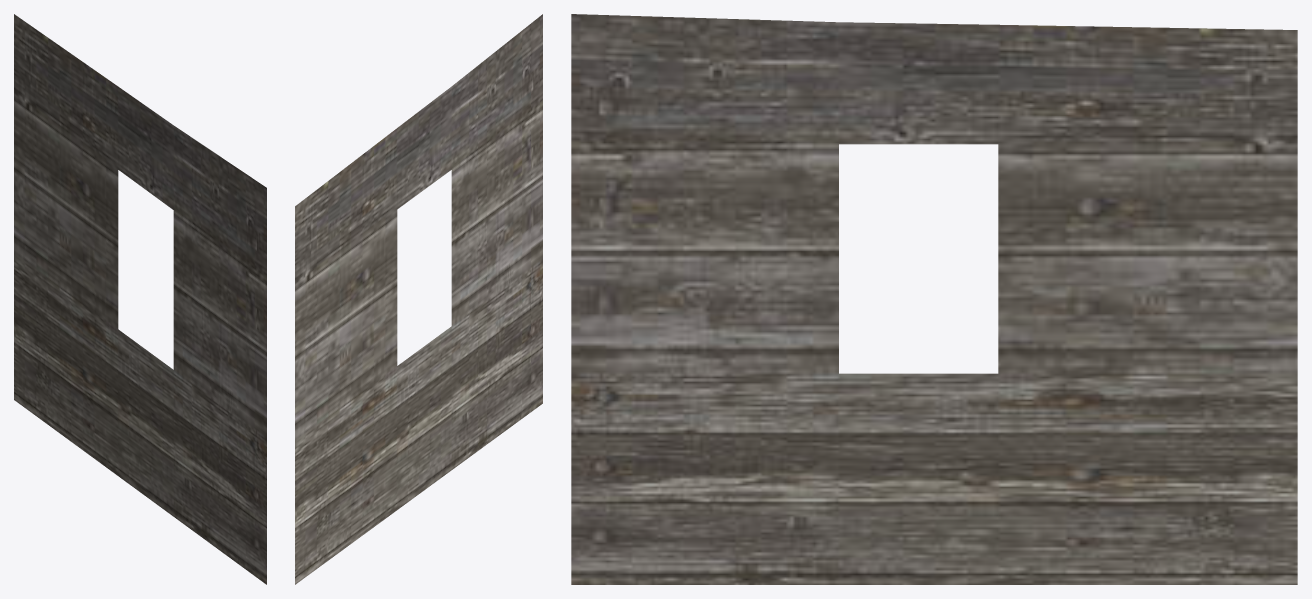
File: room_wall_window_inside.fbx
The picture shows the model from 3 angles, left to right: view 1: azimuth 30°, elevation 25°; view 2: azimuth 150°, elevation 25°; view 3: azimuth 270°, elevation 25°; orthographic projection. The views are drawn at different scales.
Visible parts, largest first — view 1: polySurface386; view 2: polySurface386; view 3: polySurface386.
Boxes of the visible parts, box(x1,y1,x2,y2) form: polySurface386: box(14, 14, 266, 584); polySurface386: box(295, 14, 542, 584); polySurface386: box(571, 14, 1297, 584).
Size of the model in its own units: 0.000244 by 236 by 273.
